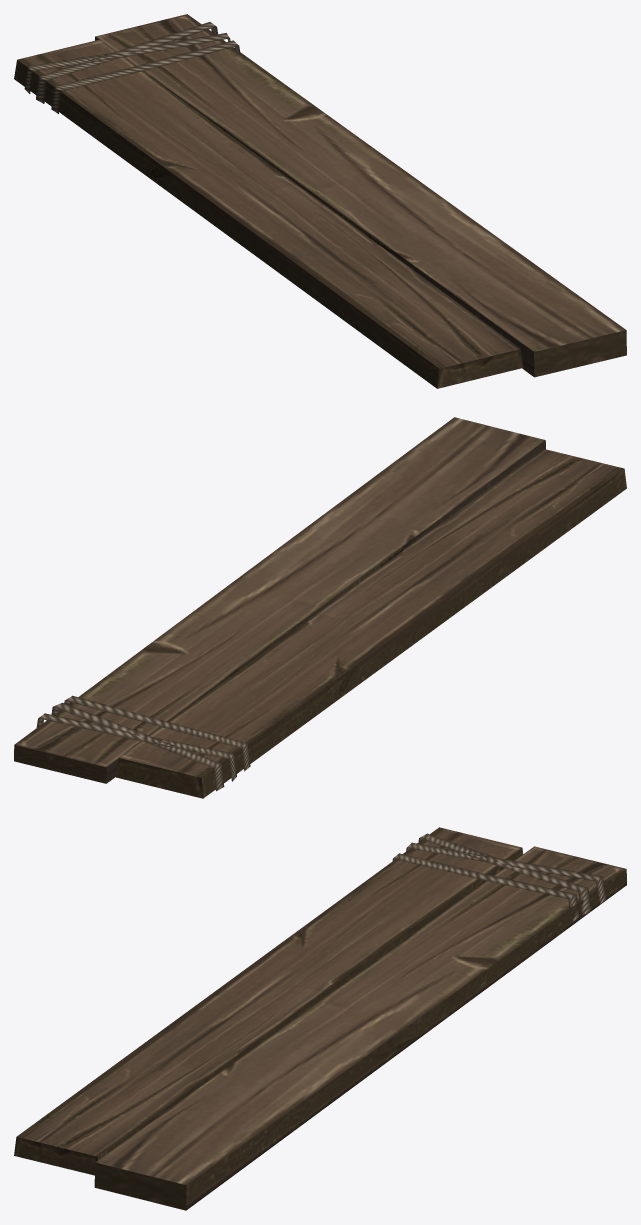
The model's file is fld_qiao01_z.FBX.
3 views of the same model, one above another, from view 1: azimuth 30°, elevation 25°; view 2: azimuth 150°, elevation 25°; view 3: azimuth 330°, elevation 25° (orthographic).
Parts seen in each view (by area): view 1: fld_qiao01_z; view 2: fld_qiao01_z; view 3: fld_qiao01_z.
Part boxes in pixels (box(x1,y1,x2,y2)): fld_qiao01_z: box(14, 14, 626, 388); fld_qiao01_z: box(14, 417, 626, 798); fld_qiao01_z: box(14, 827, 626, 1210).
Size of the model in its own units: 14.74 by 2.16 by 59.68.
